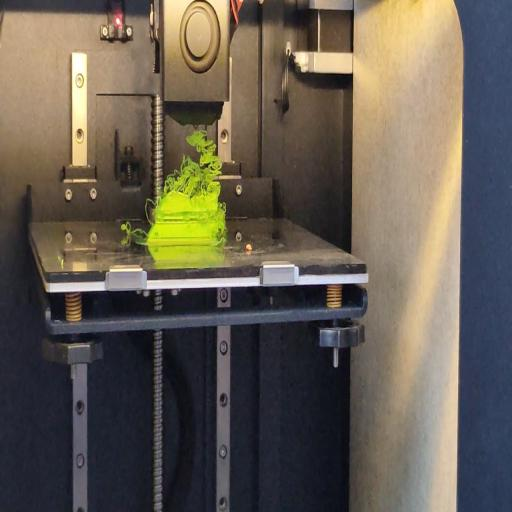spaghetti: (164, 126, 225, 198), (142, 192, 157, 224), (119, 224, 147, 238), (218, 235, 225, 241)
